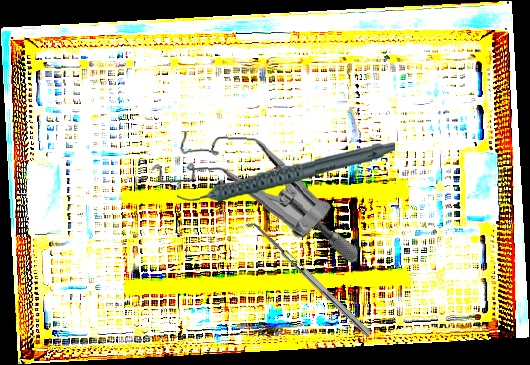Handpiece: (176, 140, 396, 203)
Spatula Surgical: (243, 217, 372, 342)
Speculum: (147, 126, 364, 267)
